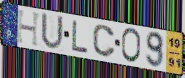9: (145, 30, 165, 69)
C: (92, 23, 117, 59)
H: (16, 8, 43, 48)
L: (71, 19, 90, 55)
O: (120, 27, 142, 65)
U: (40, 12, 65, 52)
